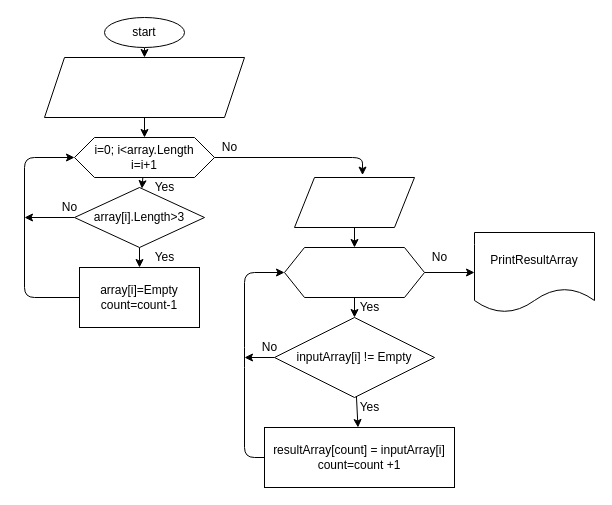
Image size: 612x505. Some labels were removed from this diagram. The shapes that lost their labels are listed below. From the top down, each one's centre as x and y in pixels, then its label:
At pixel 144 87: "InputArray[]={a1..count} ArrayLength count i=0".
At pixel 354 202: "ResultArrayLen i=0;inputArray[i]".
At pixel 354 272: "i=0; i<inputArray.Len i=i+1".
